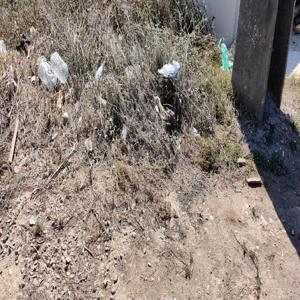plastic: (33, 48, 73, 91), (214, 38, 240, 73), (157, 55, 182, 82)
